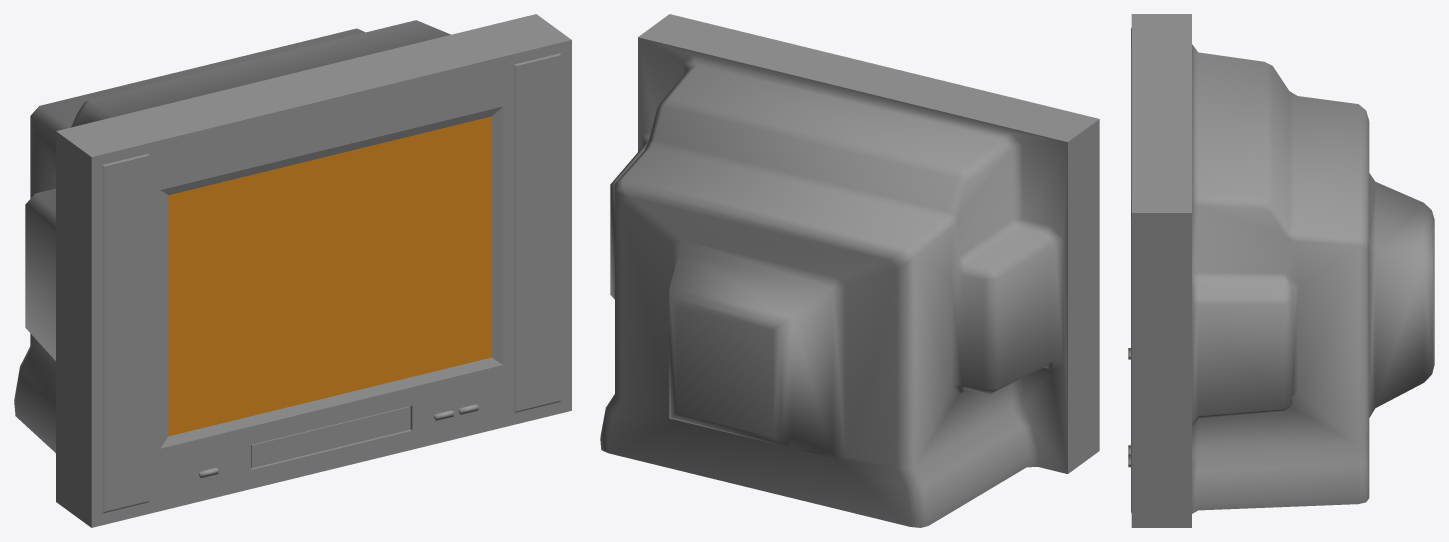
3 renders of one model, left to right at view 1: azimuth 30°, elevation 25°; view 2: azimuth 150°, elevation 25°; view 3: azimuth 270°, elevation 25°, orthographic. The views are drawn at different scales.
Visible parts, largest first — view 1: SM_TV_01; view 2: SM_TV_01; view 3: SM_TV_01.
Part boxes in pixels (bbox=[...]): SM_TV_01: bbox=[14, 14, 571, 527]; SM_TV_01: bbox=[600, 14, 1099, 527]; SM_TV_01: bbox=[1128, 14, 1434, 527].
Size of what is drawn, in the model's own units: 86.61 by 64.74 by 56.32.
